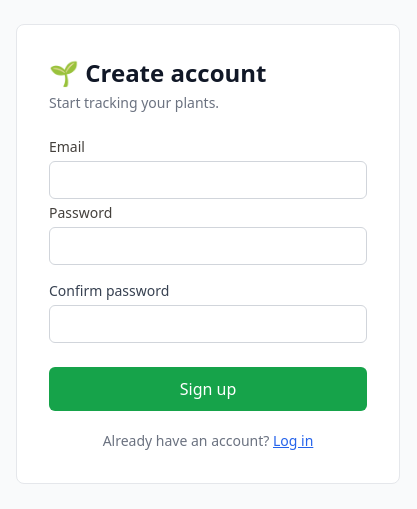
Test: Signup › shows an error when the password is under 8 characters
The width and height of the screenshot is (417, 509).
In the field labelled "Email": {"x": 208, "y": 180} [49, 161, 367, 199], type "test@example.com"
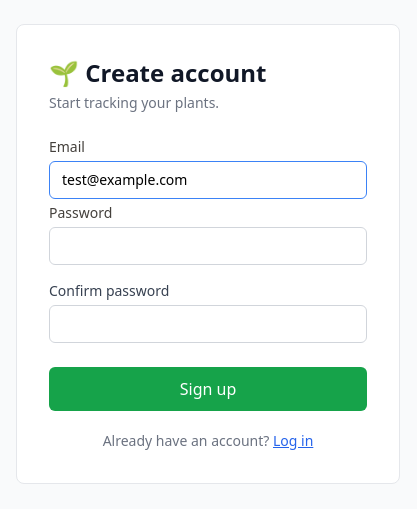
In the password field labelled "Password": {"x": 208, "y": 246} [49, 227, 367, 265], type "short"
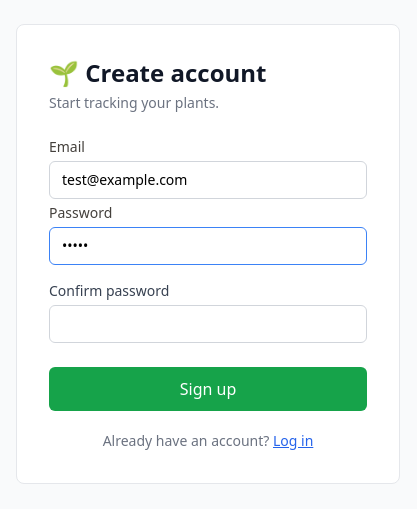
In the password field labelled "Confirm password": {"x": 208, "y": 324} [49, 305, 367, 343], type "short"
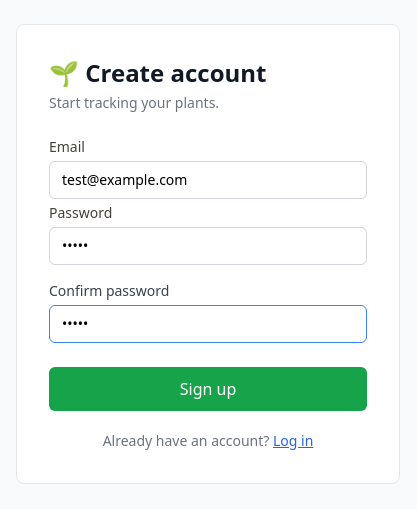
Click the button "Sign up": {"x": 208, "y": 389} [49, 367, 367, 411]
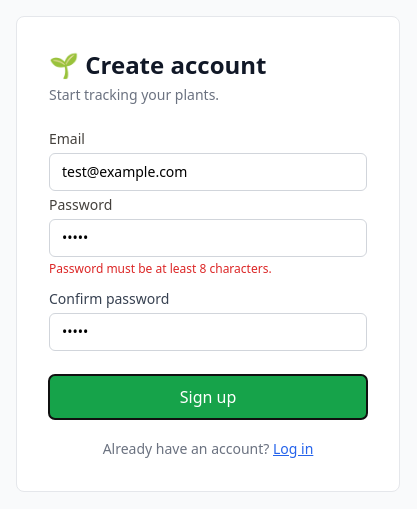
Expected: the text "Password must be at least 8 characters." is shown, [49, 260, 272, 277]
